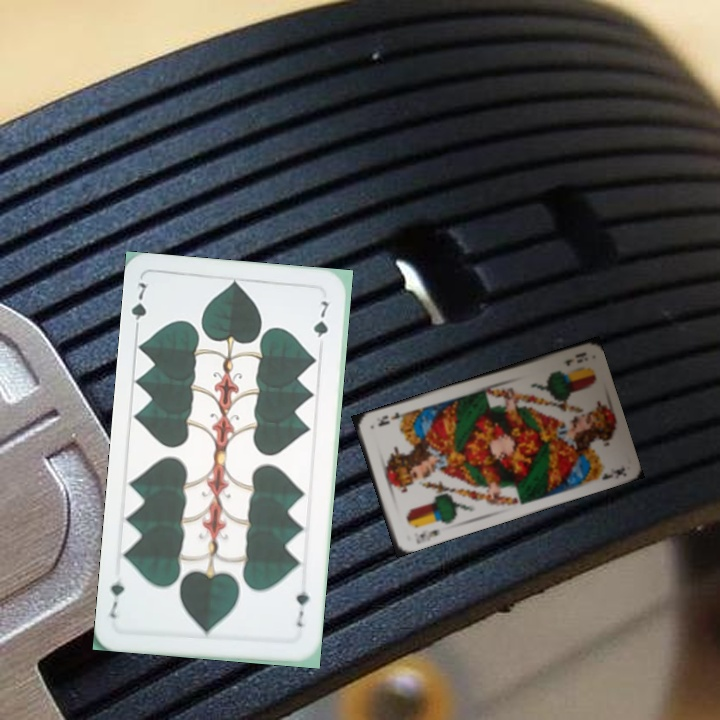EK: (412, 525, 442, 546), (561, 348, 588, 369)
G7: (127, 278, 149, 336), (292, 587, 311, 630)
